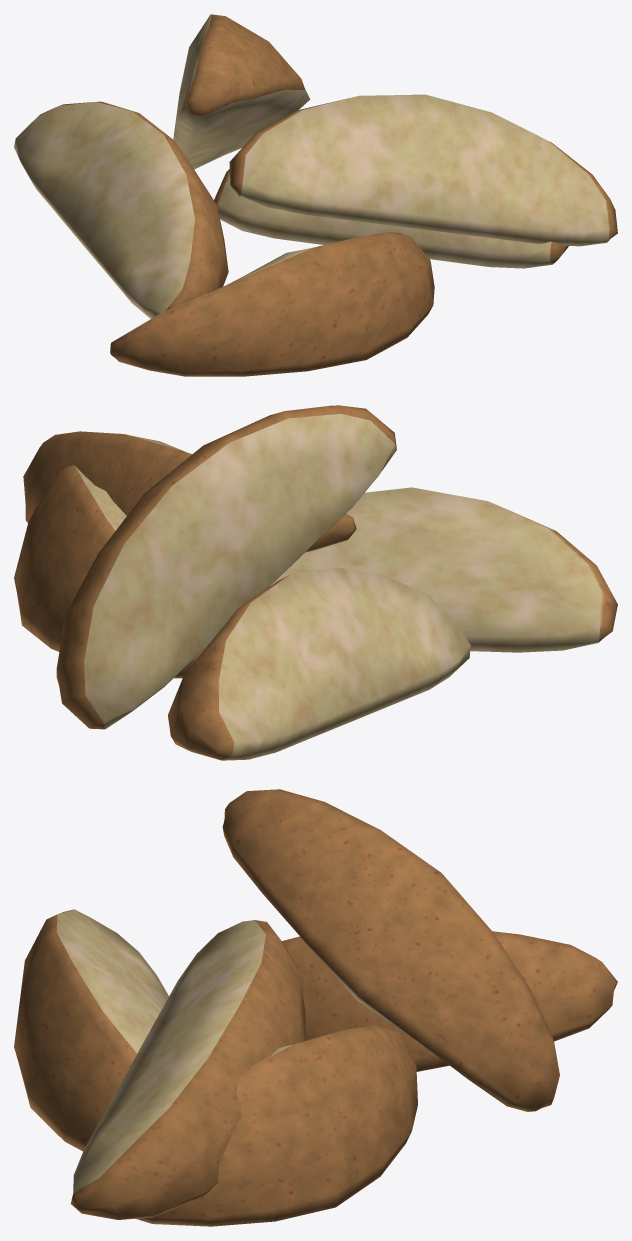
File: HoldPotato.fbx
3 views of the same model, one above another, from view 1: azimuth 30°, elevation 25°; view 2: azimuth 150°, elevation 25°; view 3: azimuth 270°, elevation 25° (orthographic). The views are drawn at different scales.
Visible parts, largest first — view 1: potato_select; view 2: potato_select; view 3: potato_select.
Boxes of the visible parts, <box> form: potato_select: <box>14,14,617,376</box>; potato_select: <box>14,405,617,760</box>; potato_select: <box>14,789,617,1226</box>.
Size of the model in its own units: 7.43 by 3.56 by 6.56.
